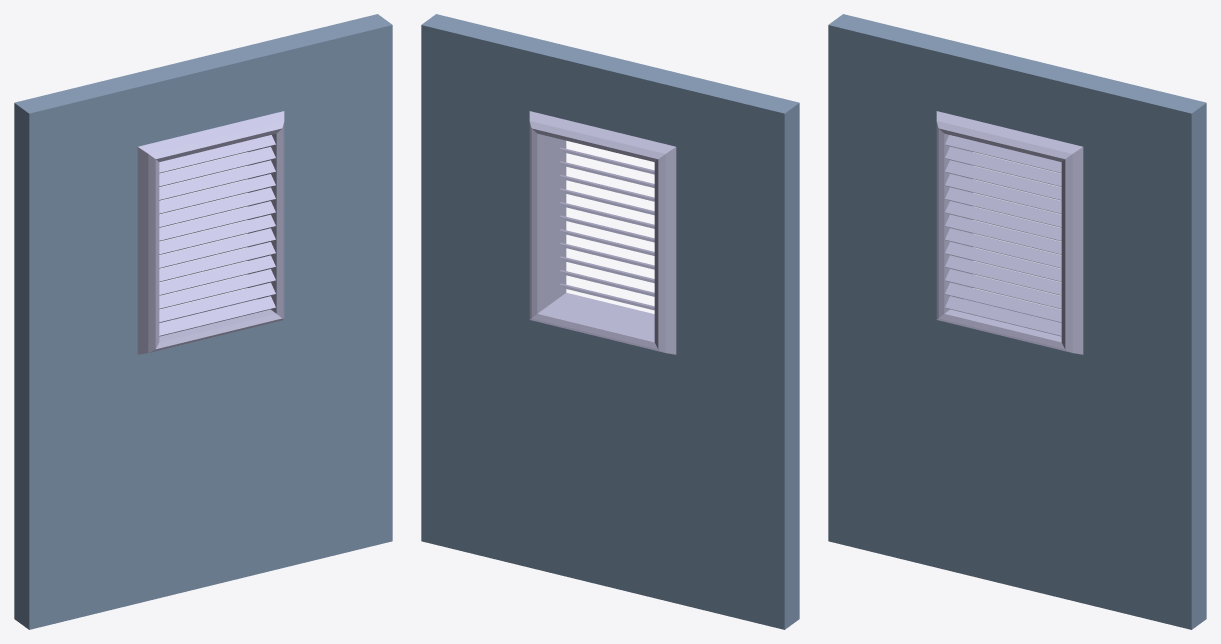
File: Wall_Window.fbx
3 views of the same model, side by side, from view 1: azimuth 30°, elevation 25°; view 2: azimuth 150°, elevation 25°; view 3: azimuth 330°, elevation 25° (orthographic).
Visible parts, largest first — view 1: Wall_Window; view 2: Wall_Window; view 3: Wall_Window.
Part boxes in pixels (x1,y1,x2,y2): Wall_Window: (14, 14, 392, 629); Wall_Window: (421, 14, 799, 629); Wall_Window: (828, 14, 1206, 629).
Bounding box in the file's own units: 2800 × 3800 × 417.
